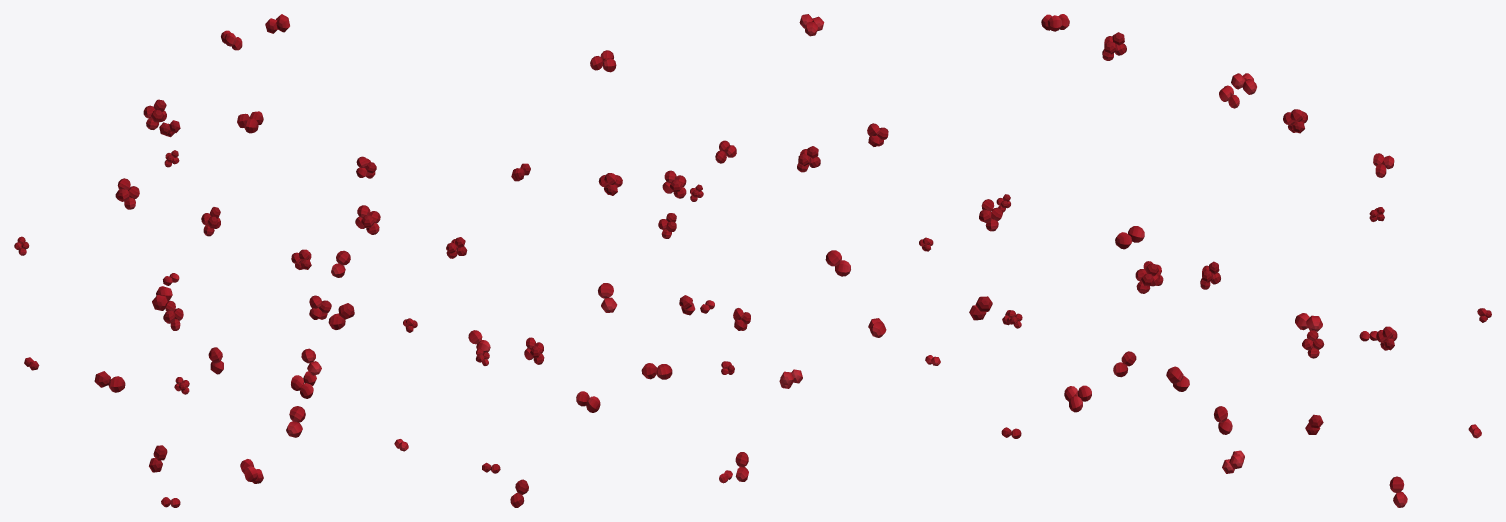
Rendered from ground_cover_02.glb.
3 renders of one model, left to right at view 1: azimuth 30°, elevation 25°; view 2: azimuth 150°, elevation 25°; view 3: azimuth 270°, elevation 25°, orthographic. The views are drawn at different scales.
Parts seen in each view (by area): view 1: ground_cover_02; view 2: ground_cover_02; view 3: ground_cover_02.
Boxes of the visible parts, <box> form: ground_cover_02: <box>14,14,417,507</box>; ground_cover_02: <box>446,14,940,507</box>; ground_cover_02: <box>969,14,1491,507</box>.
Bounding box in the file's own units: 0.7325 × 0.8 × 0.8892.
1 material, 1 textured.
